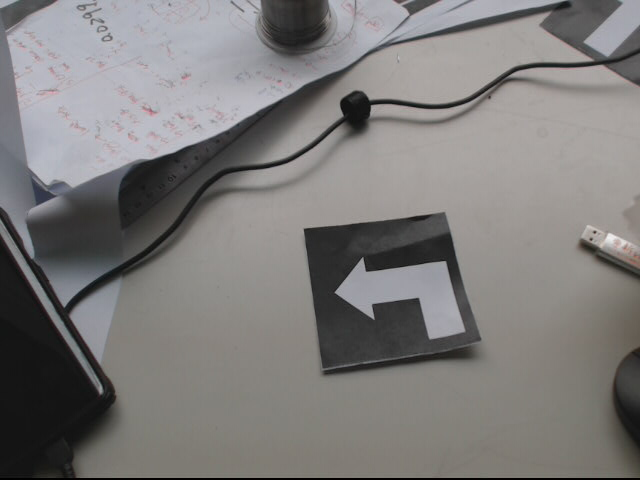left: (303, 210, 482, 373)
